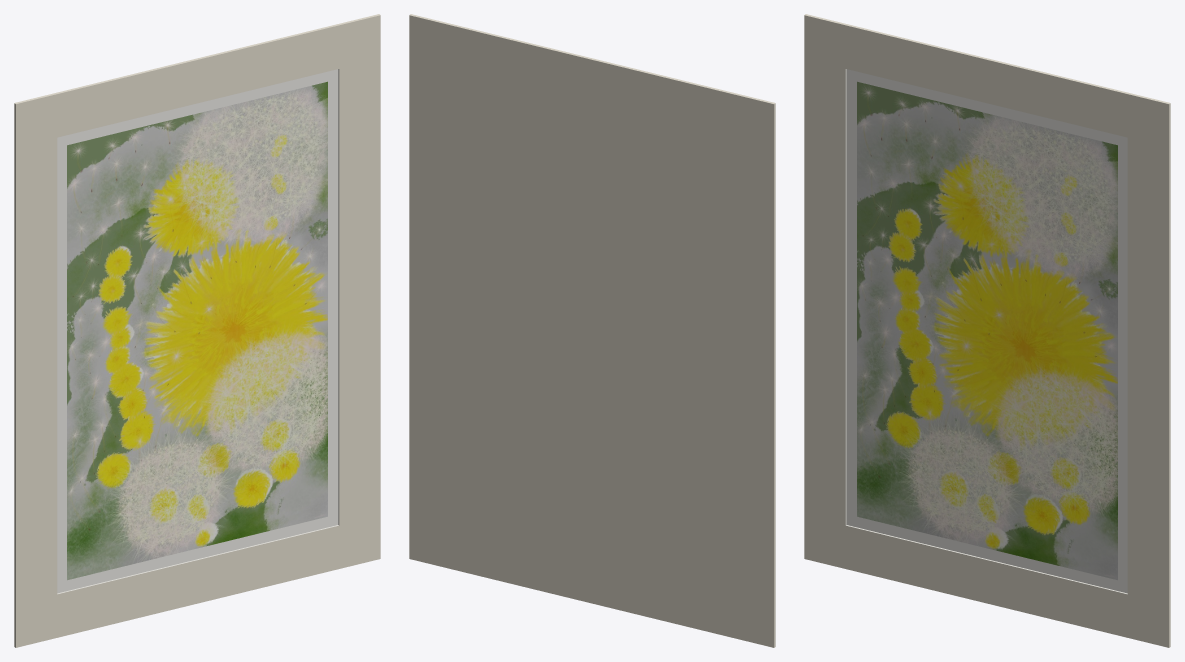
The model's file is os028_moyen_passe-partout.glb.
The picture shows the model from 3 angles, left to right: view 1: azimuth 30°, elevation 25°; view 2: azimuth 150°, elevation 25°; view 3: azimuth 330°, elevation 25°; orthographic projection.
Visible parts, largest first — view 1: os028_moyen_passe-partout; view 2: os028_moyen_passe-partout; view 3: os028_moyen_passe-partout.
Part boxes in pixels (bbox=[...]): os028_moyen_passe-partout: bbox=[14, 14, 380, 647]; os028_moyen_passe-partout: bbox=[409, 14, 775, 647]; os028_moyen_passe-partout: bbox=[804, 14, 1170, 647].
Size of the model in its own units: 0.7024 by 1 by 0.0055.
4 materials, 1 textured.
